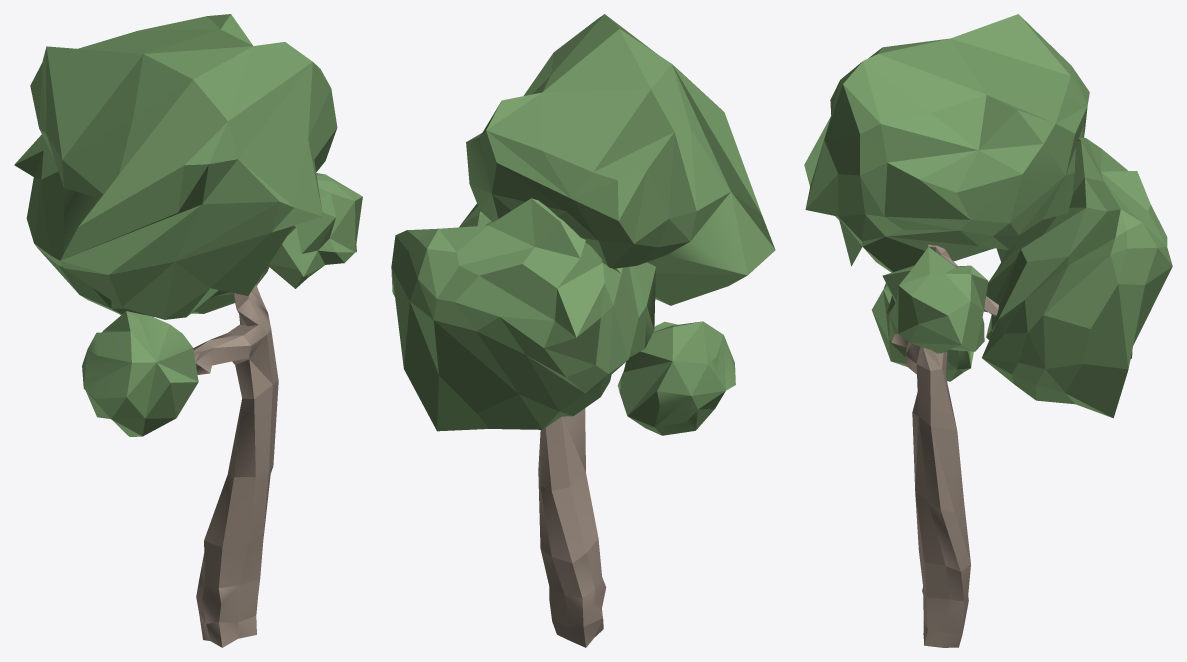
File: tree4.fbx
The picture shows the model from 3 angles, left to right: view 1: azimuth 30°, elevation 25°; view 2: azimuth 150°, elevation 25°; view 3: azimuth 270°, elevation 25°; orthographic projection. The views are drawn at different scales.
Visible parts, largest first — view 1: pSolid37, pCube8, pSolid39, pSolid40, pSolid38; view 2: pSolid37, pSolid38, pCube8, pSolid39; view 3: pSolid37, pSolid38, pCube8, pSolid40, pSolid39.
Part boxes in pixels (left/top/right/bottom): pSolid37: left=30, top=14, right=337, bottom=319; pCube8: left=193, top=277, right=278, bottom=647; pSolid39: left=82, top=311, right=198, bottom=436; pSolid40: left=268, top=173, right=362, bottom=288; pSolid38: left=14, top=134, right=269, bottom=316; pSolid37: left=466, top=14, right=775, bottom=305; pSolid38: left=391, top=198, right=655, bottom=431; pCube8: left=538, top=408, right=606, bottom=647; pSolid39: left=617, top=321, right=735, bottom=435; pSolid37: left=804, top=14, right=1089, bottom=272; pSolid38: left=982, top=137, right=1172, bottom=418; pCube8: left=891, top=244, right=998, bottom=647; pSolid40: left=882, top=247, right=988, bottom=353; pSolid39: left=872, top=283, right=973, bottom=381.
Bounding box in the file's own units: 7.29 × 13.66 × 7.7.
